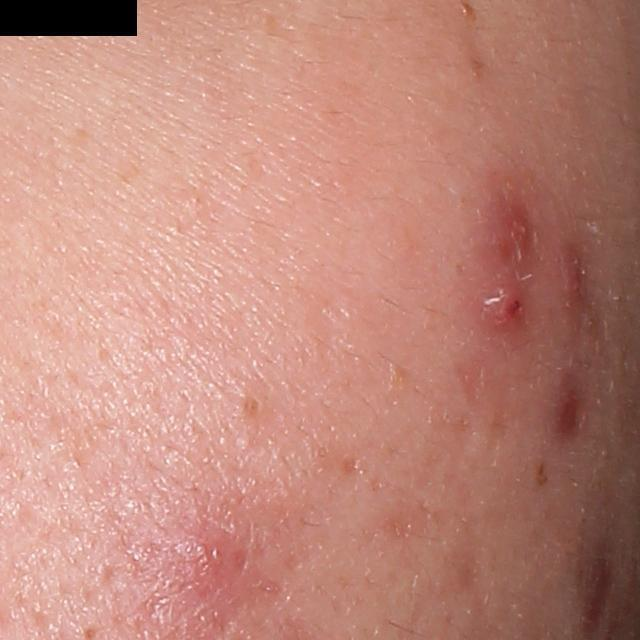atrophic_scar: (558, 380, 591, 447), (337, 450, 368, 476)
comedo: (231, 390, 271, 425), (79, 620, 99, 640)
papule: (134, 517, 250, 611), (475, 272, 533, 341), (554, 235, 591, 312), (483, 205, 533, 260)
